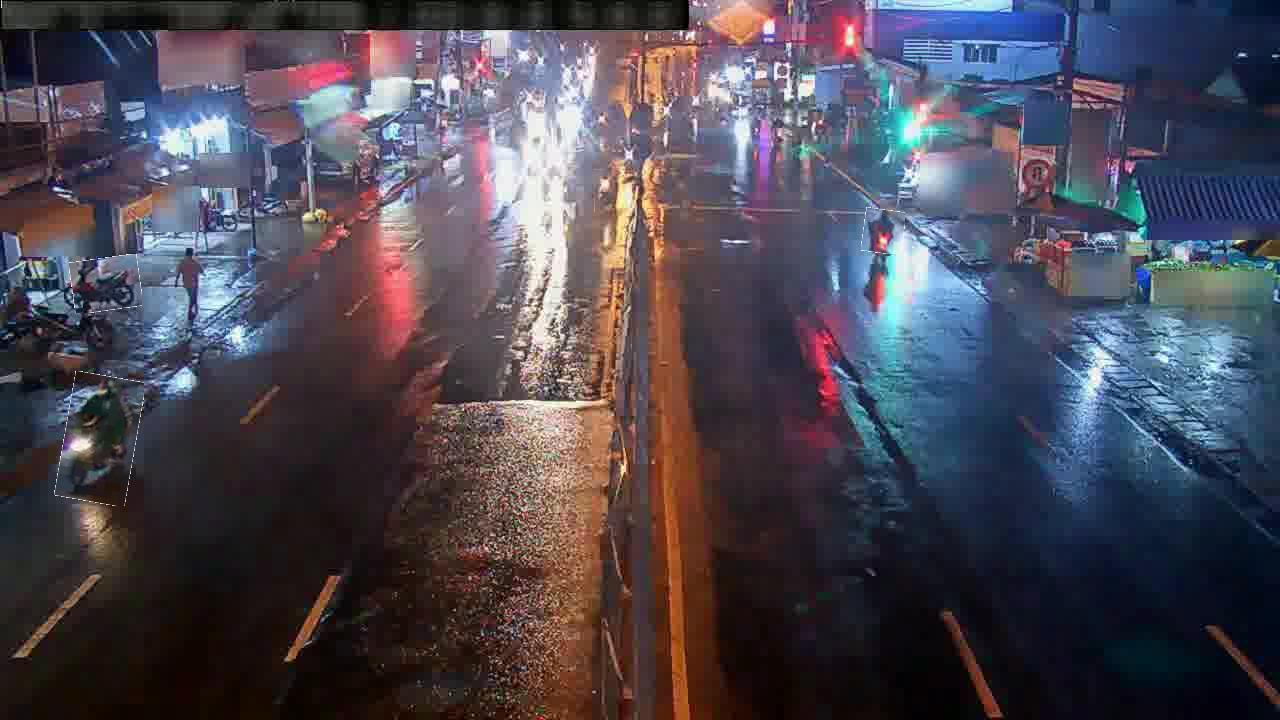motorbike: (59, 374, 140, 504), (70, 256, 142, 312), (863, 209, 905, 254), (594, 169, 620, 213)
